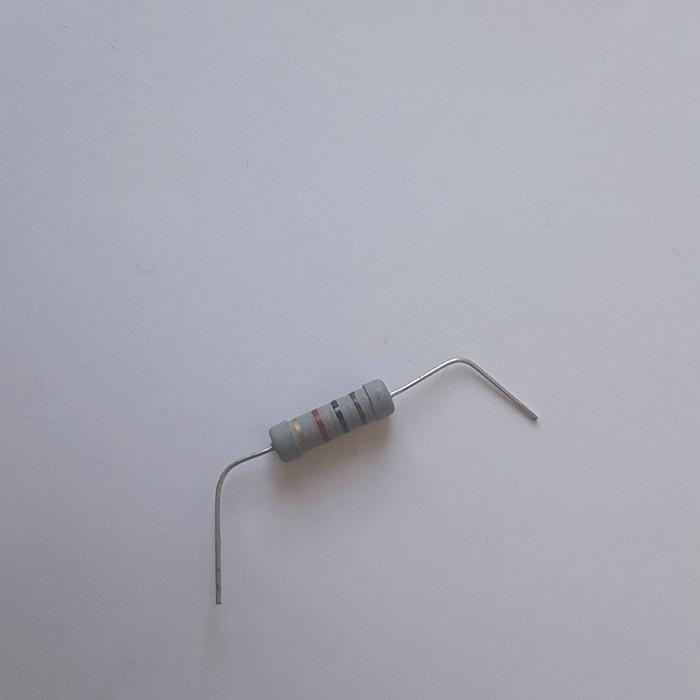resistor: (267, 377, 398, 462)
